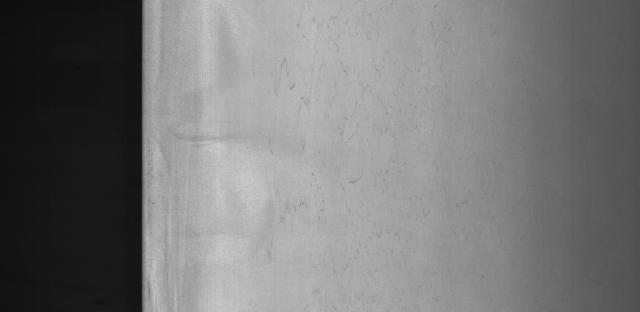silk_spot: (273, 22, 429, 312)
